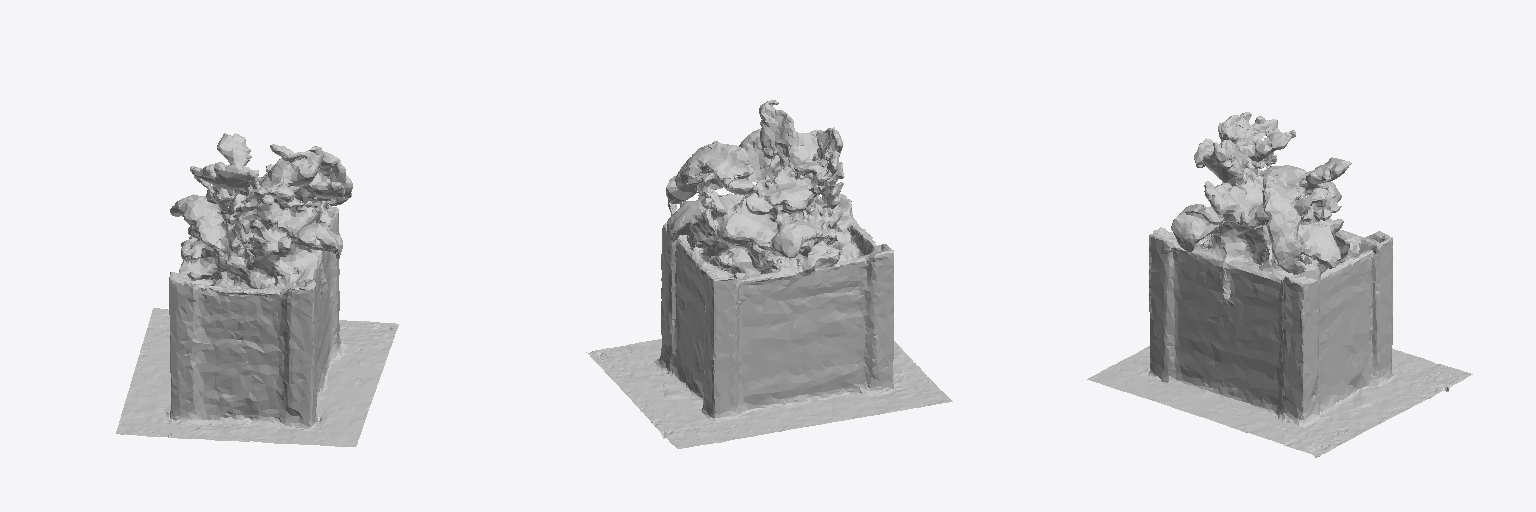
File: FlowerPot_0_2.obj
3 views of the same model, side by side, from view 1: azimuth 30°, elevation 25°; view 2: azimuth 150°, elevation 25°; view 3: azimuth 270°, elevation 25° (orthographic).
Parts seen in each view (by area): view 1: odm_textured_model_geo.001; view 2: odm_textured_model_geo.001; view 3: odm_textured_model_geo.001.
Part boxes in pixels (x1,y1,x2,y2): odm_textured_model_geo.001: (116, 133, 398, 446); odm_textured_model_geo.001: (586, 100, 952, 448); odm_textured_model_geo.001: (1087, 112, 1472, 457).
Size of the model in its own units: 6.79 by 5.03 by 6.99.